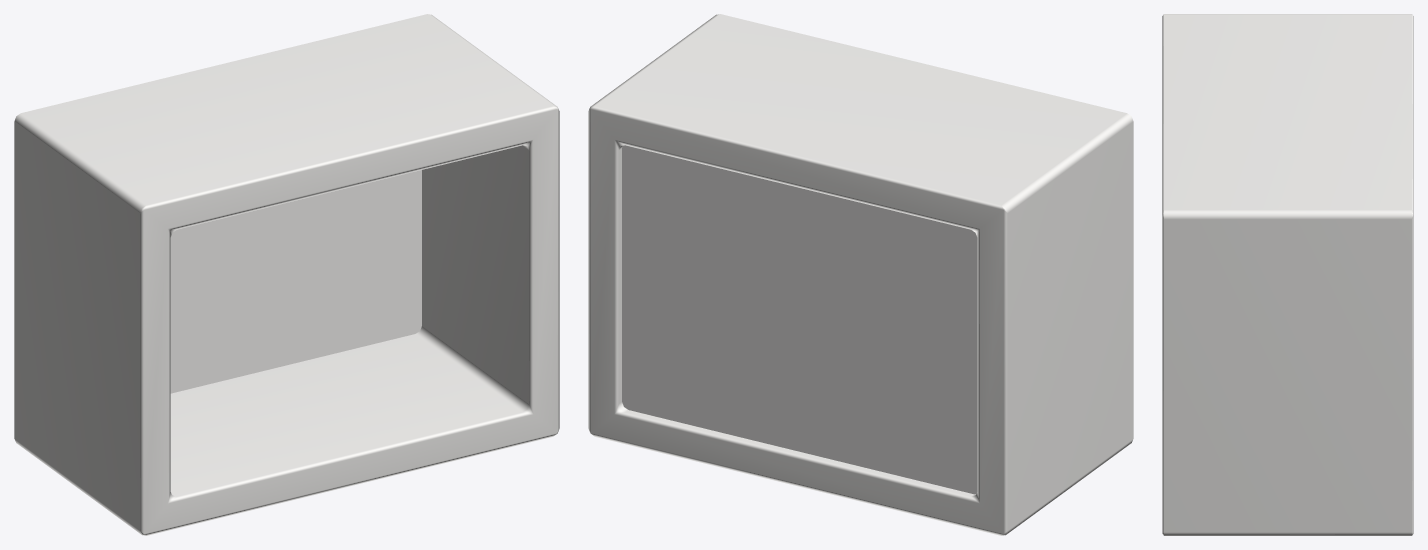
Rendered from Window_11.glb.
3 renders of one model, left to right at view 1: azimuth 30°, elevation 25°; view 2: azimuth 150°, elevation 25°; view 3: azimuth 270°, elevation 25°, orthographic.
Visible parts, largest first — view 1: Window_11; view 2: Window_11; view 3: Window_11.
Part boxes in pixels (x1=…): Window_11: x1=14, y1=14, x2=559, y2=535; Window_11: x1=588, y1=14, x2=1133, y2=535; Window_11: x1=1162, y1=14, x2=1413, y2=535.
Bounding box in the file's own units: 3.23 × 2.44 × 1.7.
2 materials, 2 textured.
